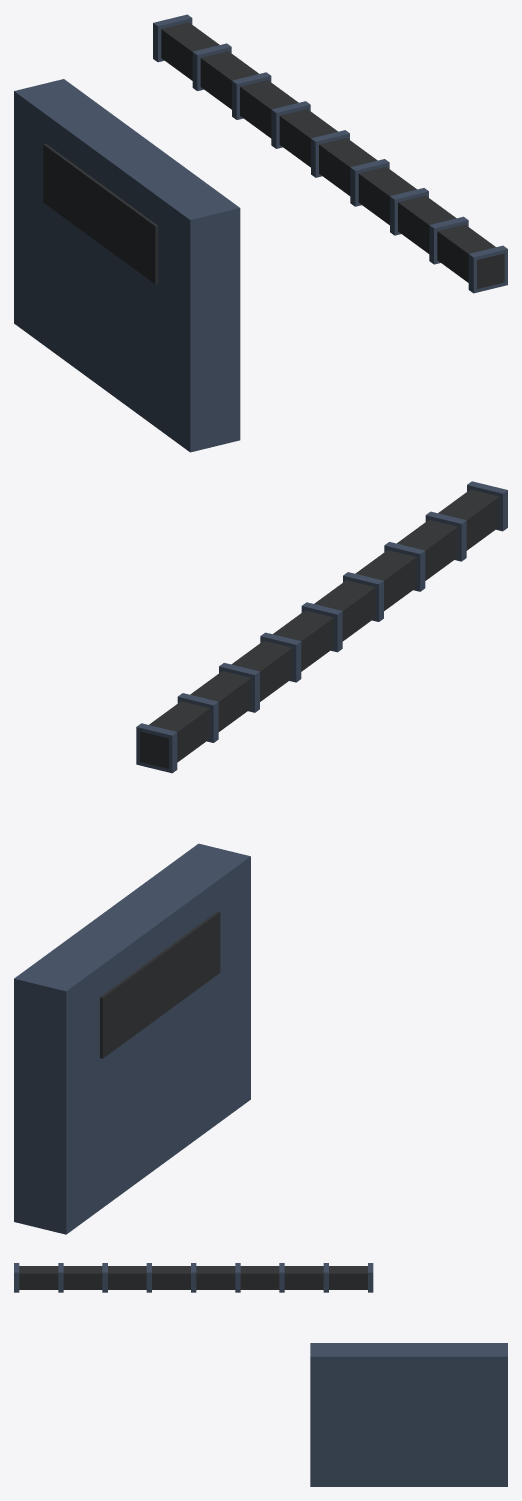
The model's file is kz6_power.obj.
3 renders of one model, top to bottom at view 1: azimuth 30°, elevation 25°; view 2: azimuth 150°, elevation 25°; view 3: azimuth 270°, elevation 25°, orthographic. The views are drawn at different scales.
Visible parts, largest first — view 1: kz6_power; view 2: kz6_power; view 3: kz6_power.
Boxes of the visible parts, x1,y1,x2,y2 form: kz6_power: (14,14,507,452); kz6_power: (14,481,507,1234); kz6_power: (14,1263,507,1486).
Size of the model in its own units: 0.202 by 1.32 by 2.75.
